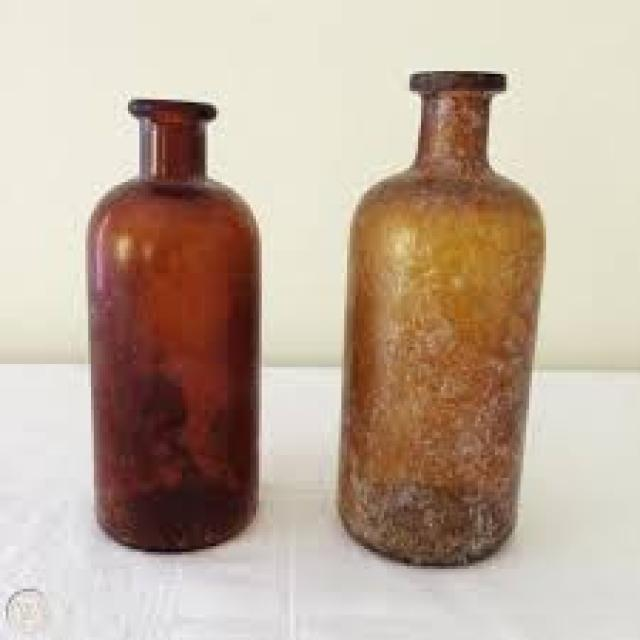glass: (336, 68, 543, 566), (82, 100, 256, 549)
